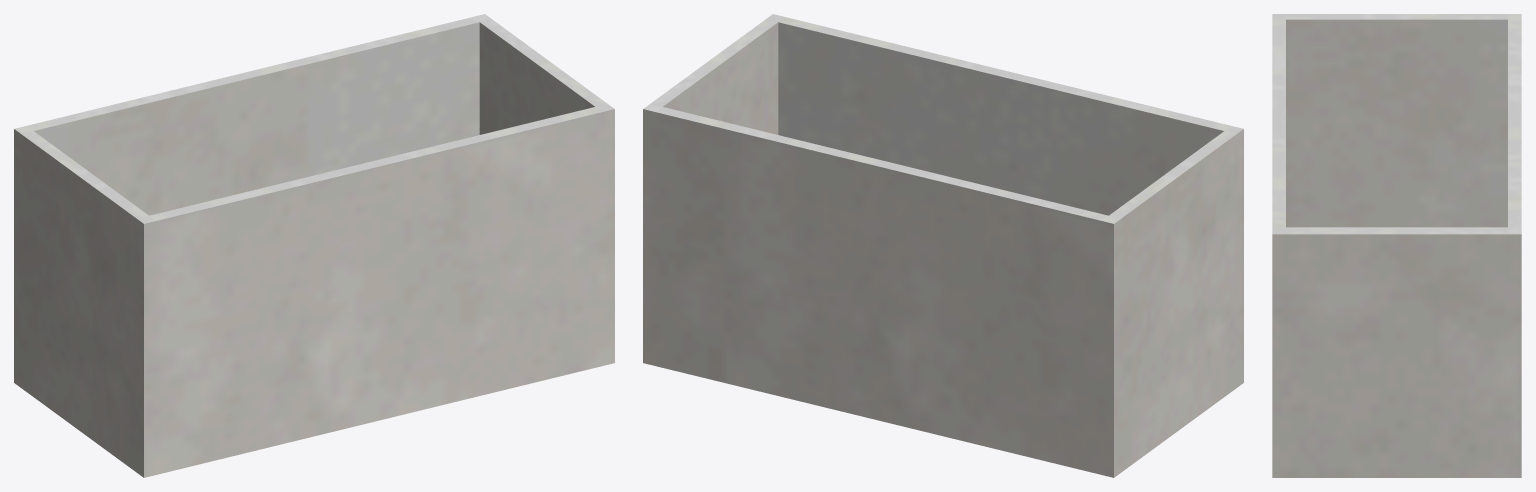
Rendered from freezer_chest.fbx.
3 views of the same model, side by side, from view 1: azimuth 30°, elevation 25°; view 2: azimuth 150°, elevation 25°; view 3: azimuth 270°, elevation 25° (orthographic). The views are drawn at different scales.
Parts seen in each view (by area): view 1: Freezer Chest; view 2: Freezer Chest; view 3: Freezer Chest.
Boxes of the visible parts, left/top/right/bottom form: Freezer Chest: left=14, top=14, right=614, bottom=477; Freezer Chest: left=643, top=14, right=1243, bottom=477; Freezer Chest: left=1272, top=14, right=1521, bottom=477.
Bounding box in the file's own units: 2.11 × 1.01 × 1.09.
1 material, 1 textured.
